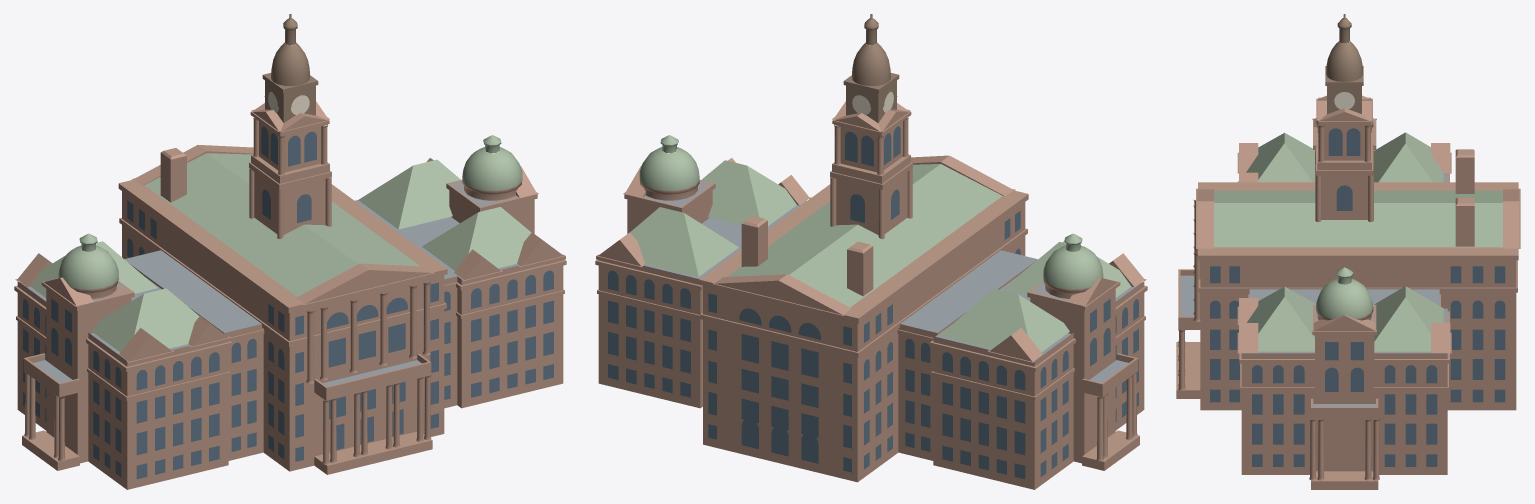
Rendered from dal-tarrant-county-courthouse.glb.
The picture shows the model from 3 angles, left to right: view 1: azimuth 30°, elevation 25°; view 2: azimuth 150°, elevation 25°; view 3: azimuth 270°, elevation 25°; orthographic projection. The views are drawn at different scales.
Parts seen in each view (by area): view 1: Tarrant County Courthouse; view 2: Tarrant County Courthouse; view 3: Tarrant County Courthouse.
Part boxes in pixels (x1,y1,x2,y2): Tarrant County Courthouse: (14,14,566,489); Tarrant County Courthouse: (595,14,1147,489); Tarrant County Courthouse: (1176,14,1520,489).
Bounding box in the file's own units: 81 × 59 × 51.15.
